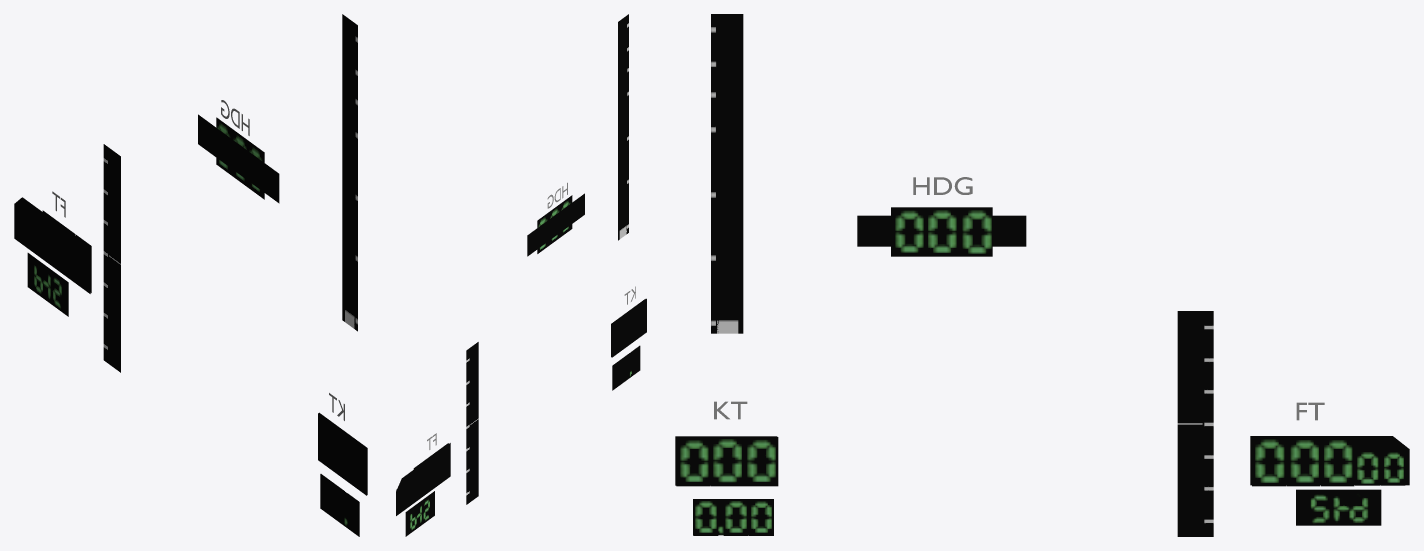
File: infos.fbx
The picture shows the model from 3 angles, left to right: view 1: azimuth 30°, elevation 25°; view 2: azimuth 150°, elevation 25°; view 3: azimuth 270°, elevation 25°; orthographic projection. The views are drawn at different scales.
Parts seen in each view (by area): view 1: infos.ft0, infos.aoa-needle, infos.hdg0, infos.kt0, infos.aoa-scale, infos.mach0, infos.vsi-needle-down, infos.vsi-needle-up, infos.vsi-scale, infos.text; view 2: infos.ft0, infos.aoa-needle, infos.hdg0, infos.kt0, infos.aoa-scale, infos.vsi-scale, infos.mach0, infos.vsi-needle-down, infos.vsi-needle-up; view 3: infos.aoa-needle, infos.ft0, infos.aoa-scale, infos.vsi-needle-down, infos.vsi-needle-up, infos.vsi-scale, infos.hdg0, infos.hdg1, infos.kt1, infos.kt100, infos.ft100, infos.kt10 (+10 smaller).
Boxes of the visible parts, x1,y1,x2,y2 form: infos.ft0: (14, 197, 90, 316); infos.aoa-needle: (345, 16, 355, 328); infos.hdg0: (198, 114, 279, 203); infos.kt0: (318, 413, 366, 495); infos.aoa-scale: (342, 14, 357, 331); infos.mach0: (320, 474, 359, 536); infos.vsi-needle-down: (109, 256, 120, 372); infos.vsi-needle-up: (109, 148, 120, 264); infos.vsi-scale: (103, 144, 108, 363); infos.text: (52, 100, 344, 420); infos.ft0: (396, 443, 450, 536); infos.aoa-needle: (619, 16, 626, 238); infos.hdg0: (527, 193, 584, 256); infos.kt0: (612, 298, 646, 357); infos.aoa-scale: (618, 14, 628, 240); infos.vsi-scale: (466, 348, 470, 504); infos.mach0: (612, 346, 640, 390); infos.vsi-needle-down: (470, 419, 478, 501); infos.vsi-needle-up: (470, 342, 478, 424); infos.aoa-needle: (717, 14, 738, 333); infos.ft0: (1250, 436, 1409, 525); infos.aoa-scale: (711, 14, 743, 333); infos.vsi-needle-down: (1177, 424, 1202, 536); infos.vsi-needle-up: (1177, 311, 1202, 423); infos.vsi-scale: (1202, 311, 1213, 536); infos.hdg0: (857, 215, 1026, 246); infos.hdg1: (958, 207, 992, 256); infos.kt1: (744, 437, 778, 486); infos.kt100: (676, 437, 710, 486); infos.ft100: (1320, 437, 1354, 486); infos.kt10: (710, 437, 744, 486).
Bounding box in the file's own units: 0.2827 × 12.84 × 10.23.
